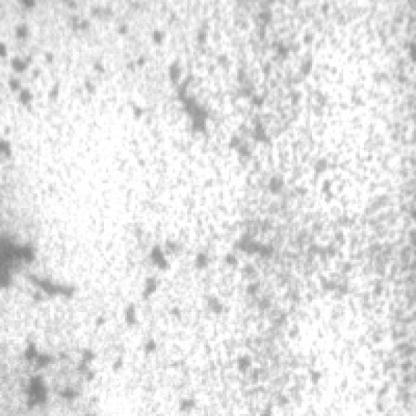patches: (0, 231, 71, 414)
pitted_surface: (66, 12, 408, 412)
